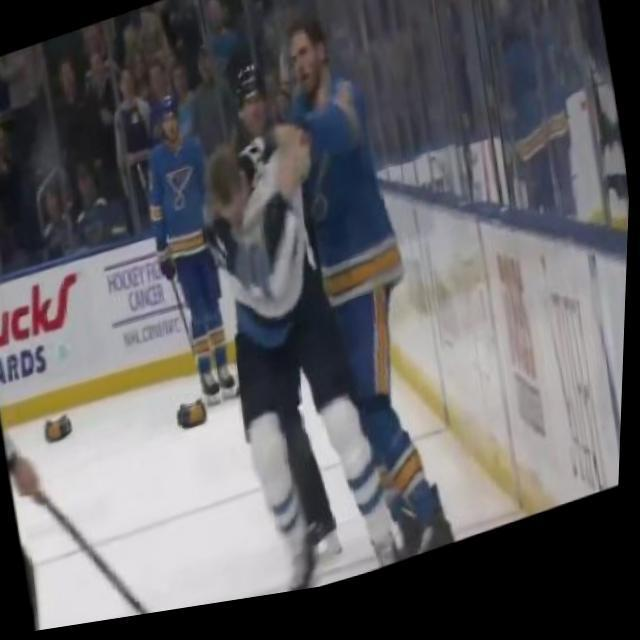fight: (156, 0, 472, 619)
